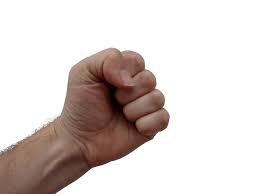fist: (70, 49, 160, 159)
